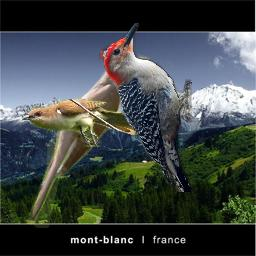Cuckoo: (25, 54, 150, 228), (21, 99, 159, 147)
Woodpecker: (99, 23, 192, 192)
